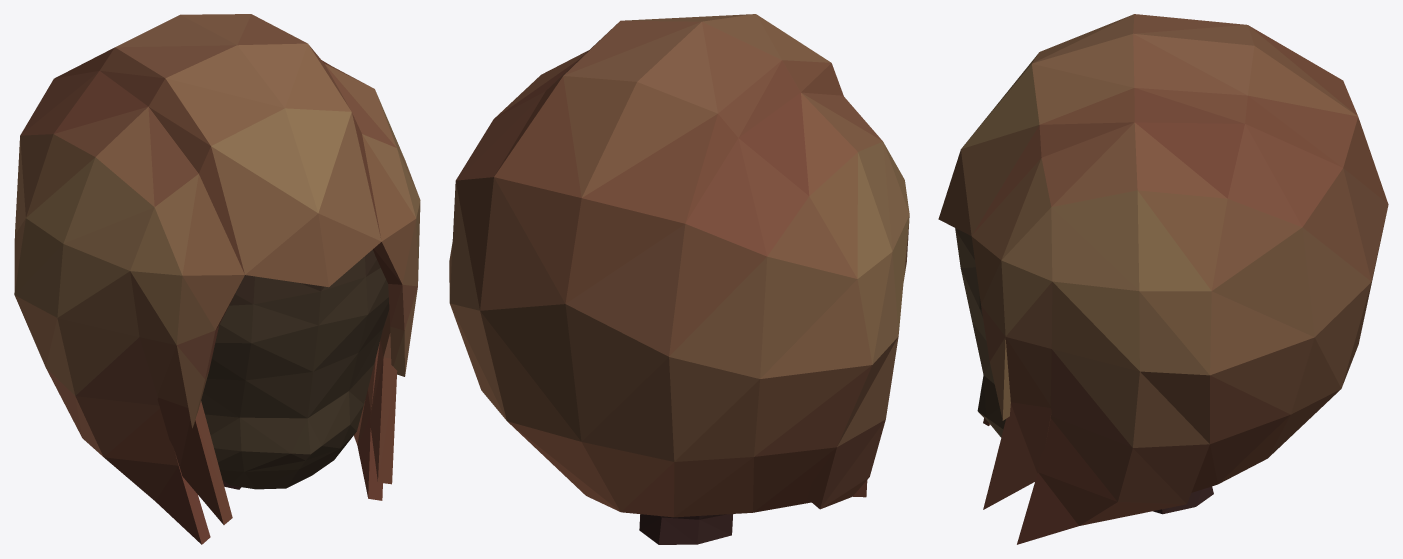
File: helm_darkskin_bob_blonde.fbx
3 renders of one model, left to right at view 1: azimuth 30°, elevation 25°; view 2: azimuth 150°, elevation 25°; view 3: azimuth 270°, elevation 25°, orthographic. The views are drawn at different scales.
Parts seen in each view (by area): view 1: helm_darkskin_bob_blonde; view 2: helm_darkskin_bob_blonde; view 3: helm_darkskin_bob_blonde.
Part boxes in pixels (x1,y1,x2,y2): helm_darkskin_bob_blonde: (14, 14, 420, 544); helm_darkskin_bob_blonde: (449, 14, 909, 544); helm_darkskin_bob_blonde: (938, 14, 1388, 544).
Size of the model in its own units: 1.18 by 1.34 by 1.16.
